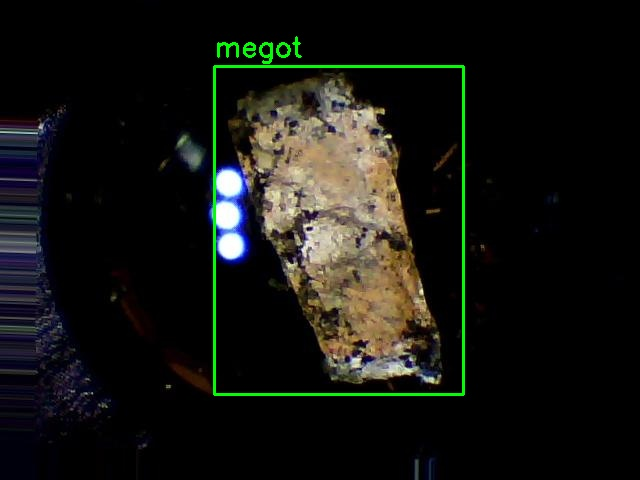megot: (214, 66, 463, 394)
